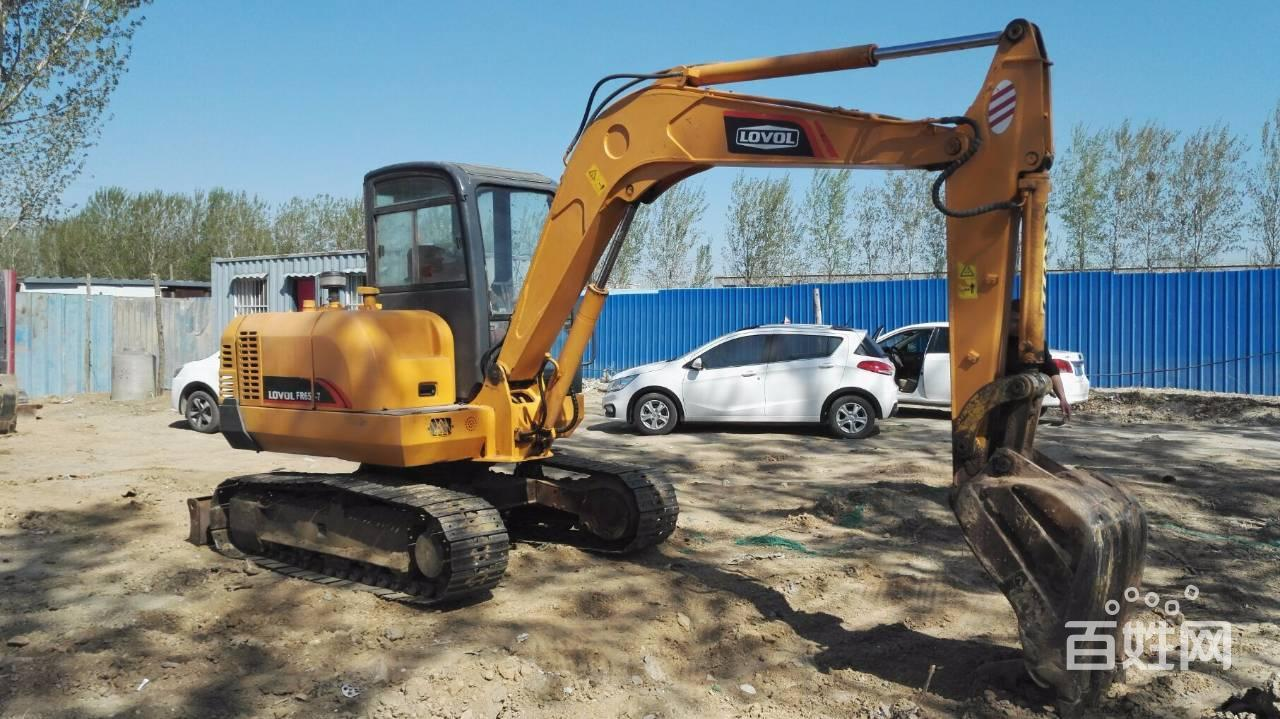excavator: (174, 13, 1149, 710)
